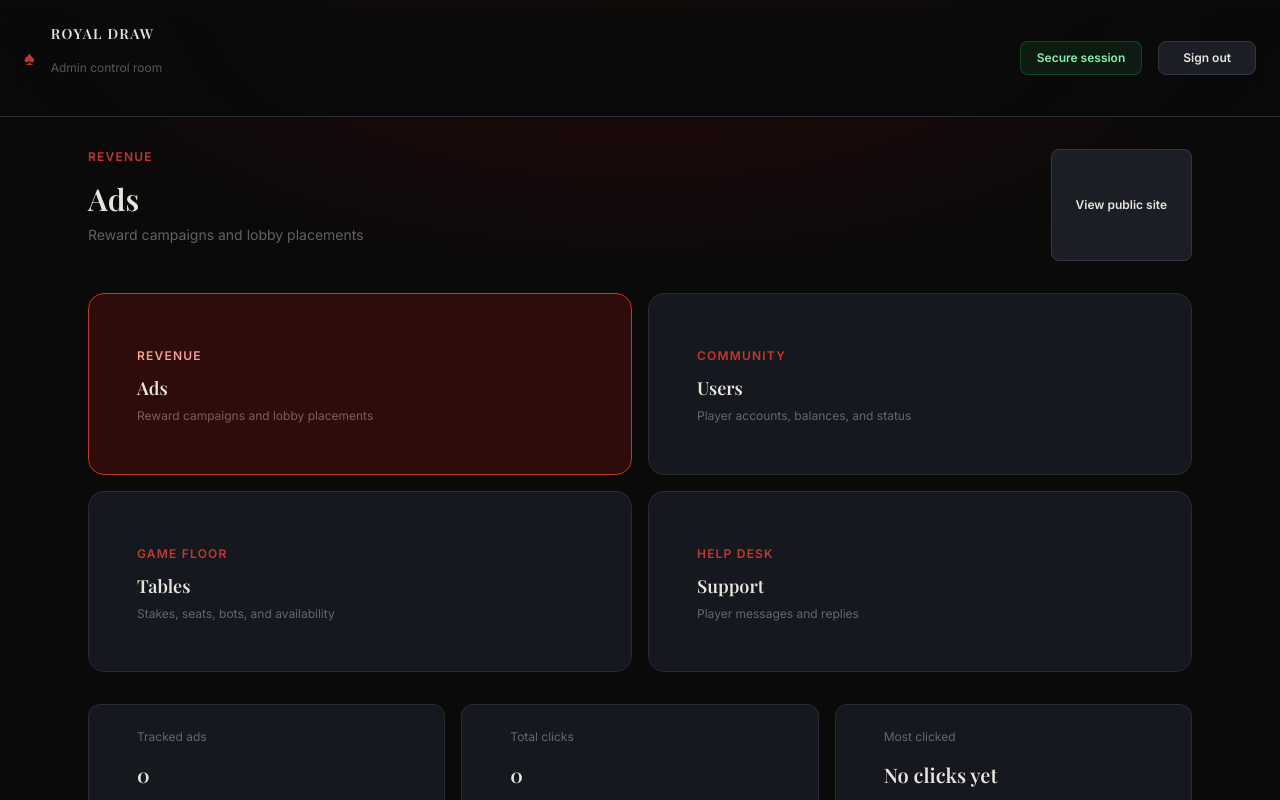
it: AdminDashboard: record text › users returned as a plain array are displayed with their account balances
Click the button "Community Users Player accounts, balances, and status": x=741, y=356 [648,293,1192,474]
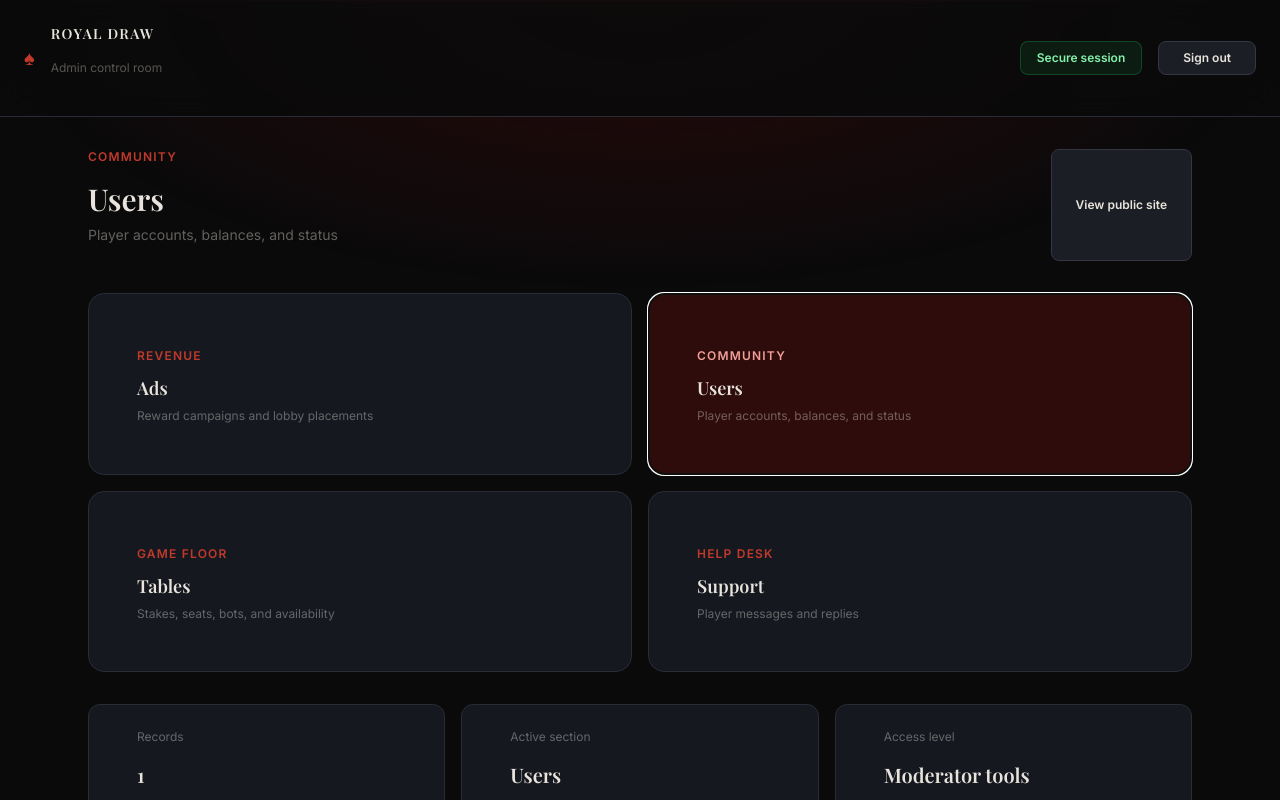
Expected: the text "1" is shown, [137,761,145,788]
